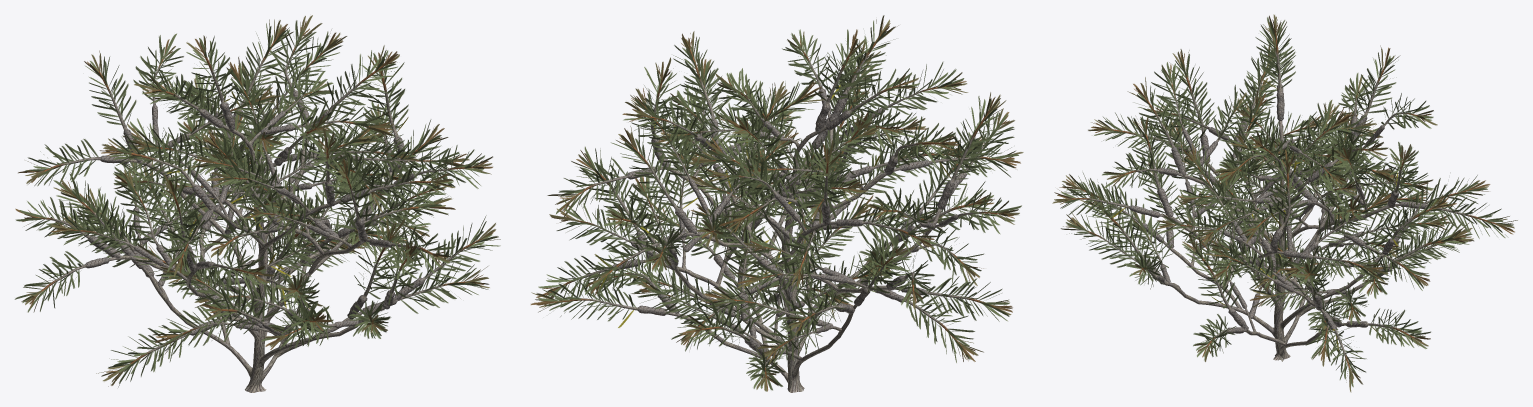
The picture shows the model from 3 angles, left to right: view 1: azimuth 30°, elevation 25°; view 2: azimuth 150°, elevation 25°; view 3: azimuth 270°, elevation 25°; orthographic projection. The views are drawn at different scales.
Parts seen in each view (by area): view 1: Callistemon_rigidus_HD; view 2: Callistemon_rigidus_HD; view 3: Callistemon_rigidus_HD.
Boxes of the visible parts, x1,y1,x2,y2 form: Callistemon_rigidus_HD: (14,15,500,392); Callistemon_rigidus_HD: (530,15,1023,392); Callistemon_rigidus_HD: (1052,14,1517,392).
Size of the model in its own units: 1.16 by 0.9361 by 1.23.
8 materials, 8 textured.
